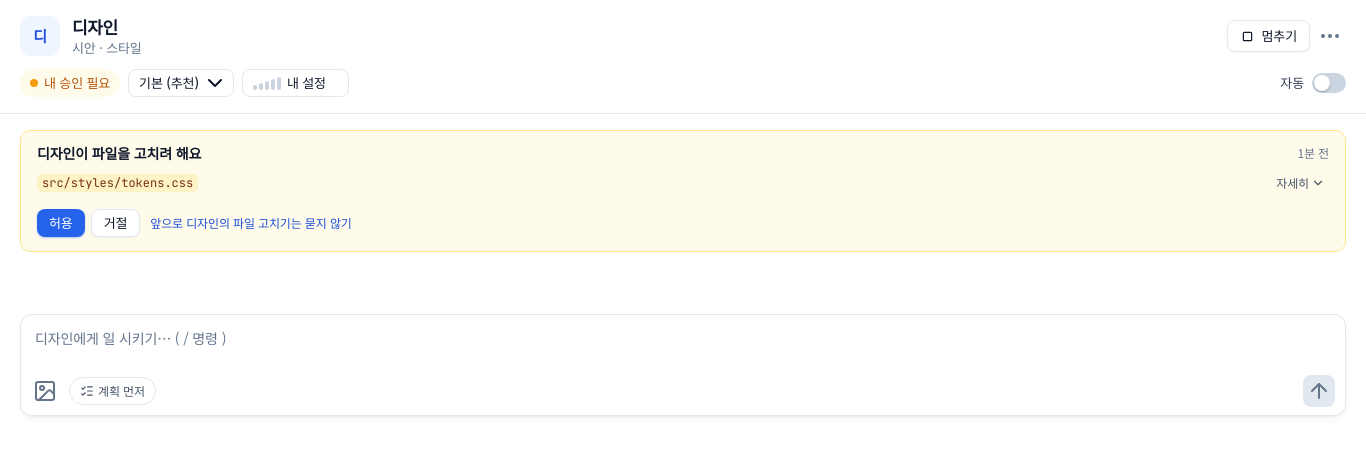
Test: 권한 카드 › 답이 실패하면(이미 끝난 요청) 엔진 문구를 보여 주고 버튼을 다시 연다
Click the button "허용" at (61, 223), box [37, 209, 85, 237]
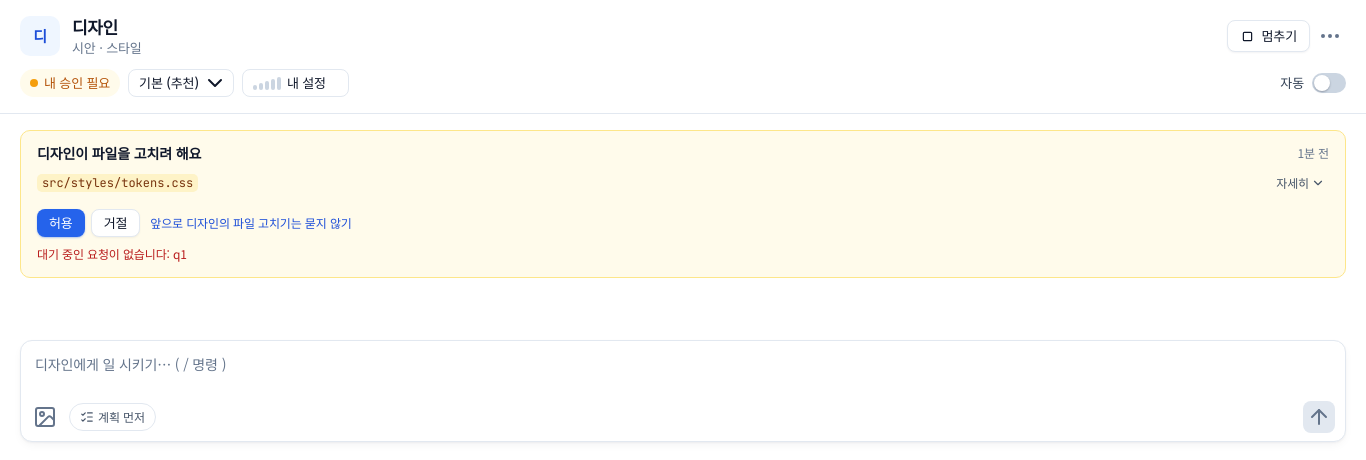
Expected: the message reads "대기 중인 요청이 없습니다: q1", [37, 245, 187, 262]
